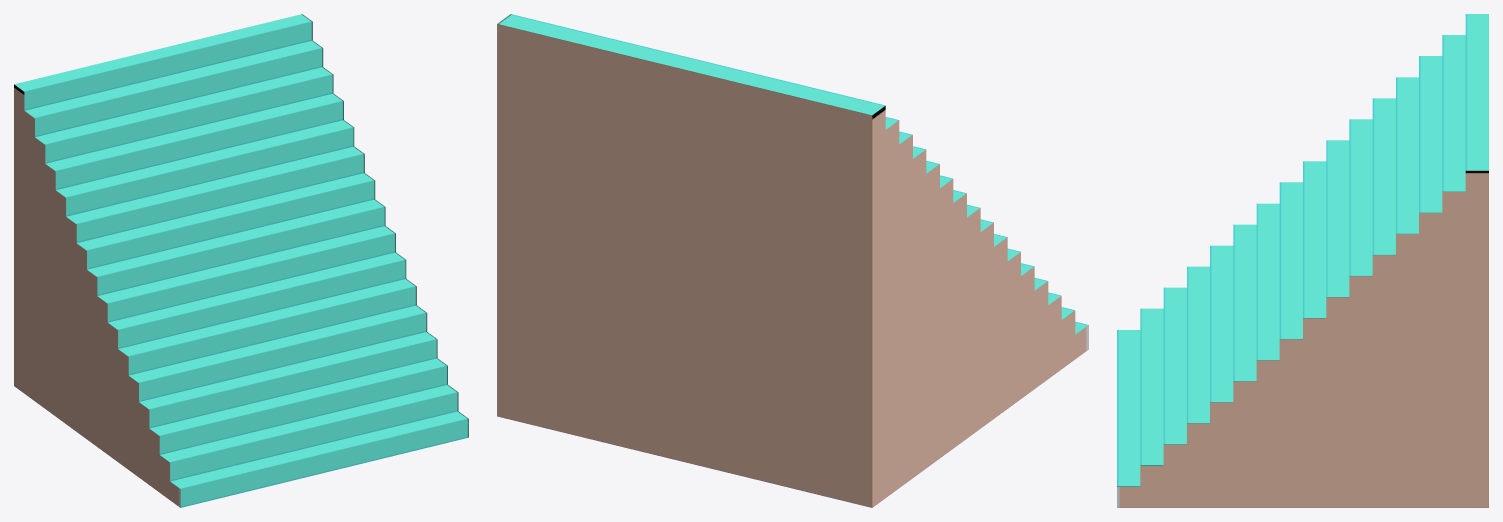
Rendered from MK_Stairs_Trim_A_Wall_B.fbx.
3 renders of one model, left to right at view 1: azimuth 30°, elevation 25°; view 2: azimuth 150°, elevation 25°; view 3: azimuth 270°, elevation 25°, orthographic. The views are drawn at different scales.
Visible parts, largest first — view 1: Stairs_Trim_A_Wall_B; view 2: Stairs_Trim_A_Wall_B; view 3: Stairs_Trim_A_Wall_B.
Boxes of the visible parts, x1=… form: Stairs_Trim_A_Wall_B: x1=14, y1=14, x2=468, y2=507; Stairs_Trim_A_Wall_B: x1=497, y1=14, x2=1088, y2=507; Stairs_Trim_A_Wall_B: x1=1117, y1=14, x2=1488, y2=507.
Size of the model in its own units: 180 by 180 by 180.
1 material, 1 textured.
